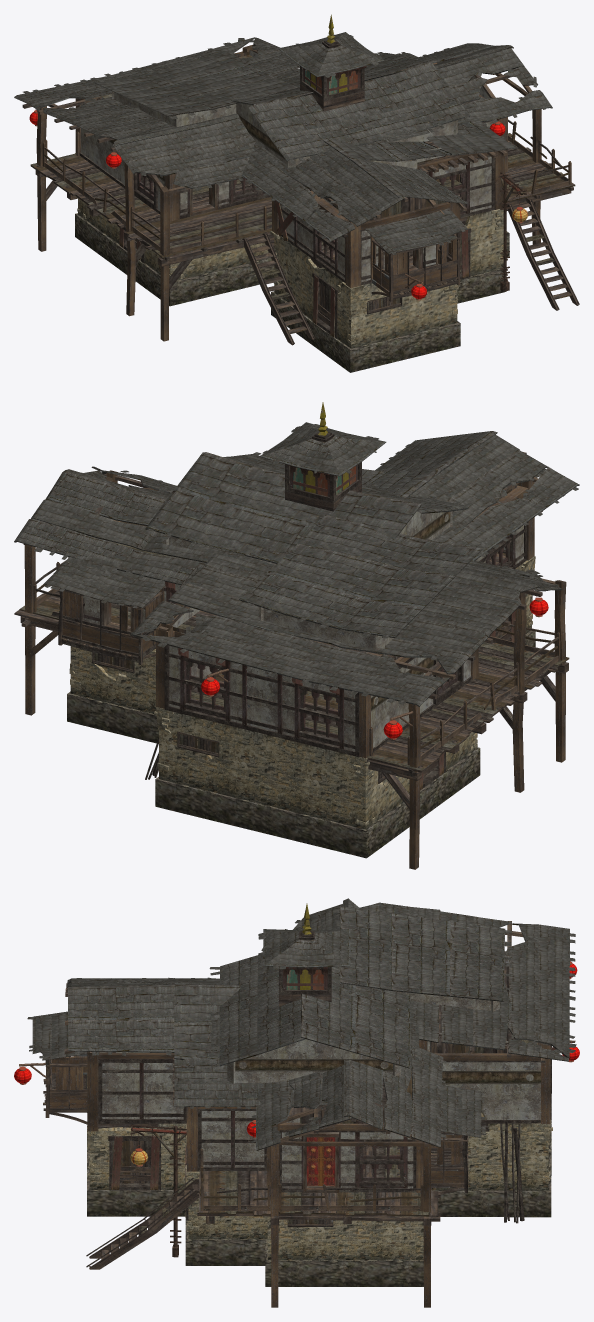
3 views of the same model, one above another, from view 1: azimuth 30°, elevation 25°; view 2: azimuth 150°, elevation 25°; view 3: azimuth 270°, elevation 25° (orthographic). The views are drawn at different scales.
Parts seen in each view (by area): view 1: 0dc4ac37, 087a2250, 0ccc891c, fef9d6b6, 83c1d8a4, 51d82b73, 3dd69ad8, 087a22500, 087a22501, 13c10676, 3dae8ffa, 97a3e190 (+1 smaller); view 2: 0dc4ac37, 087a2250, 0ccc891c, fef9d6b6, 83c1d8a4, 51d82b73, 3dd69ad8, 97a3e190, 13c10676, e2f0822b; view 3: 0dc4ac37, 087a2250, 0ccc891c, 51d82b73, 83c1d8a4, fef9d6b6, 3dd69ad8, e2f0822b, 087a22501, f4937b2c, 3dae8ffa, 13c10676 (+1 smaller).
Boxes of the visible parts, x1,y1,x2,y2 form: 0dc4ac37: [14, 32, 552, 254]; 087a2250: [22, 39, 575, 338]; 0ccc891c: [75, 153, 503, 348]; fef9d6b6: [36, 45, 571, 341]; 83c1d8a4: [75, 213, 509, 372]; 51d82b73: [81, 50, 492, 281]; 3dd69ad8: [137, 58, 469, 274]; 087a22500: [242, 233, 315, 345]; 087a22501: [506, 197, 579, 310]; 13c10676: [119, 66, 468, 337]; 3dae8ffa: [495, 172, 531, 291]; 97a3e190: [305, 14, 357, 94]; 0dc4ac37: [14, 422, 579, 706]; 087a2250: [14, 431, 569, 809]; 0ccc891c: [69, 556, 535, 829]; fef9d6b6: [23, 470, 566, 869]; 83c1d8a4: [67, 630, 535, 858]; 51d82b73: [84, 485, 523, 751]; 3dd69ad8: [84, 464, 515, 749]; 97a3e190: [293, 402, 355, 496]; 13c10676: [165, 463, 515, 789]; e2f0822b: [371, 511, 450, 710]; 0dc4ac37: [27, 898, 576, 1150]; 087a2250: [43, 921, 551, 1226]; 0ccc891c: [87, 1102, 552, 1260]; 51d82b73: [100, 955, 540, 1188]; 83c1d8a4: [87, 1120, 551, 1286]; fef9d6b6: [49, 1039, 550, 1307]; 3dd69ad8: [139, 969, 551, 1192]; e2f0822b: [235, 1059, 540, 1084]; 087a22501: [86, 1177, 199, 1269]; f4937b2c: [306, 1137, 335, 1186]; 3dae8ffa: [130, 1124, 186, 1257]; 13c10676: [111, 967, 555, 1217].
Size of the model in its own units: 4.98 by 3.15 by 5.39.
Materials: 17 (17 with a texture image).
